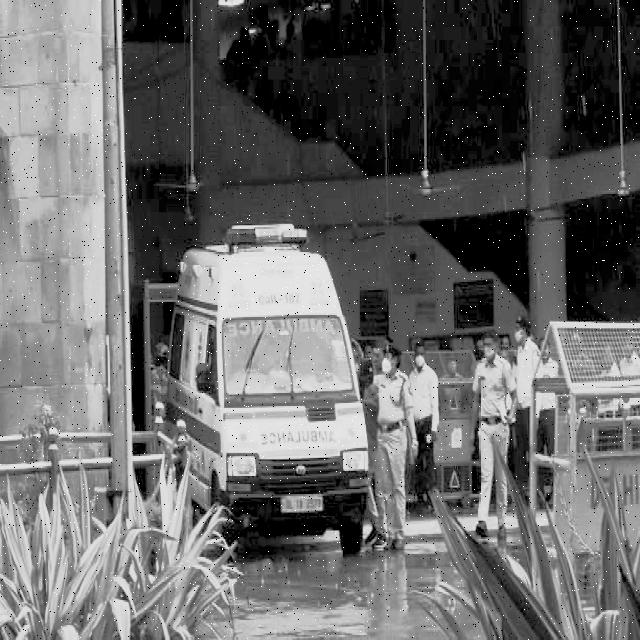Ambulance: (222, 259, 340, 315), (226, 313, 344, 345), (222, 220, 312, 256), (256, 428, 342, 454), (170, 380, 218, 422), (172, 264, 220, 294)
